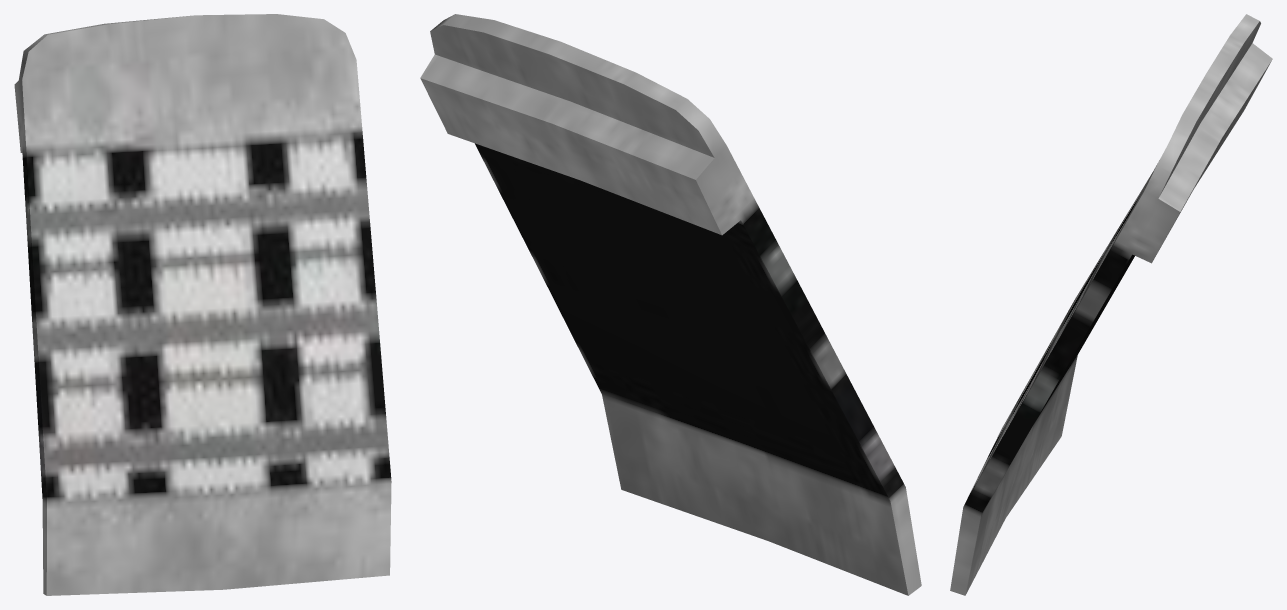
Rendered from shoulderarmor-heavyguardhousesoldiers.glb.
3 views of the same model, side by side, from view 1: azimuth 30°, elevation 25°; view 2: azimuth 150°, elevation 25°; view 3: azimuth 270°, elevation 25° (orthographic). The views are drawn at different scales.
Size of the model in its own units: 0.2405 by 0.31 by 0.1853.
Materials: 1 (1 with a texture image).
